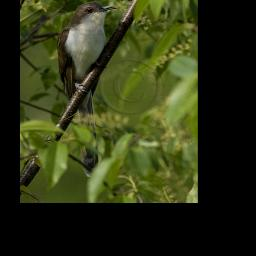Cuckoo: (58, 0, 117, 155)
